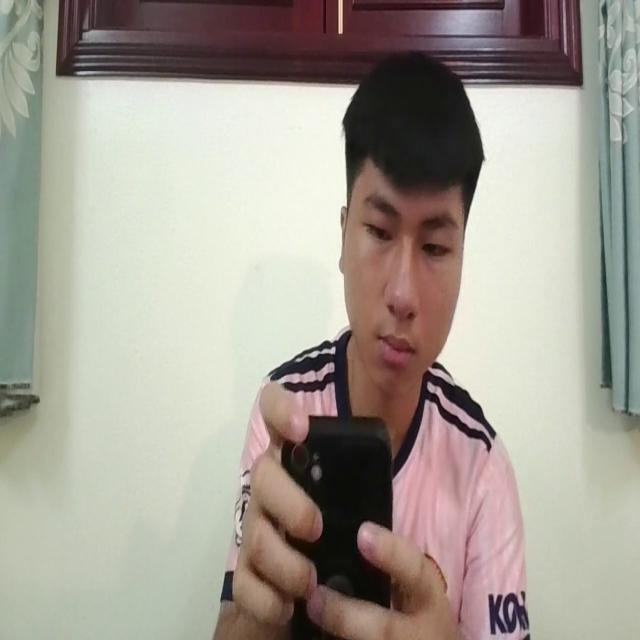phone: (278, 412, 394, 640)
student: (202, 50, 533, 640)
